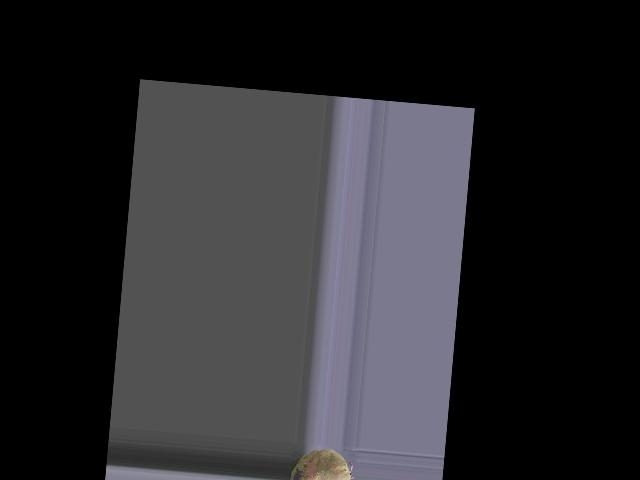beet: (288, 446, 355, 480)
